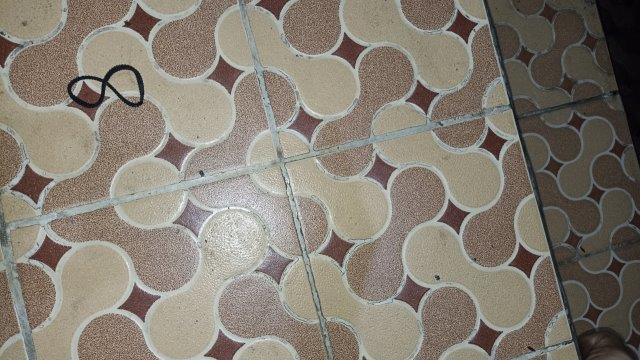karet: (67, 65, 144, 107)
